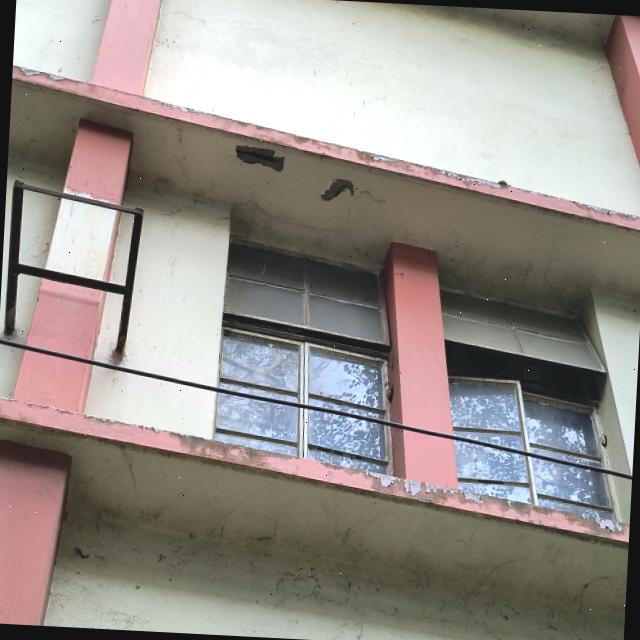Paint Peeling: (12, 65, 640, 234), (0, 396, 200, 439), (368, 473, 483, 505), (599, 519, 621, 532)
Spalling: (236, 145, 284, 172), (321, 179, 354, 201)
pollution -moisture induced blackening: (12, 65, 640, 234), (321, 462, 629, 548), (175, 435, 304, 483)
